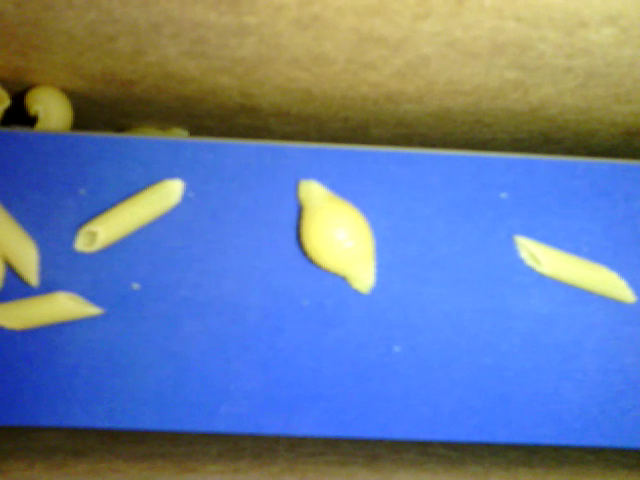penne: (514, 233, 635, 306), (73, 178, 186, 252), (1, 290, 104, 331), (1, 204, 40, 291)
shell: (293, 179, 377, 295), (25, 85, 75, 131)
